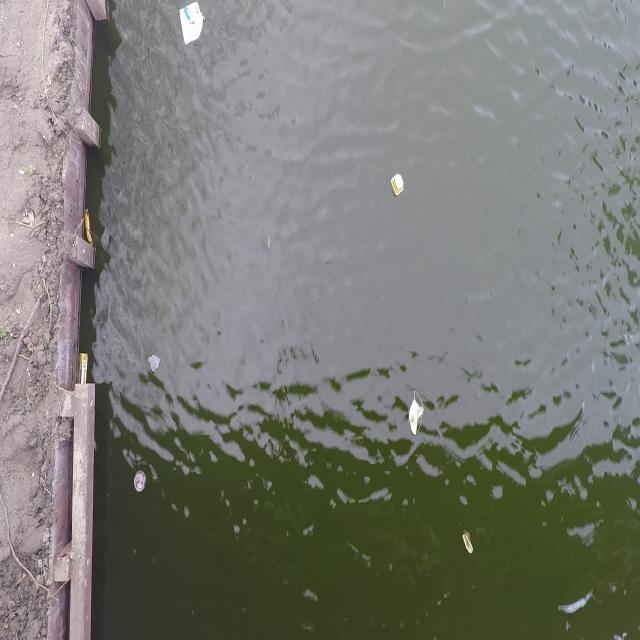Non plastique: (404, 384, 428, 446), (460, 529, 476, 563)
